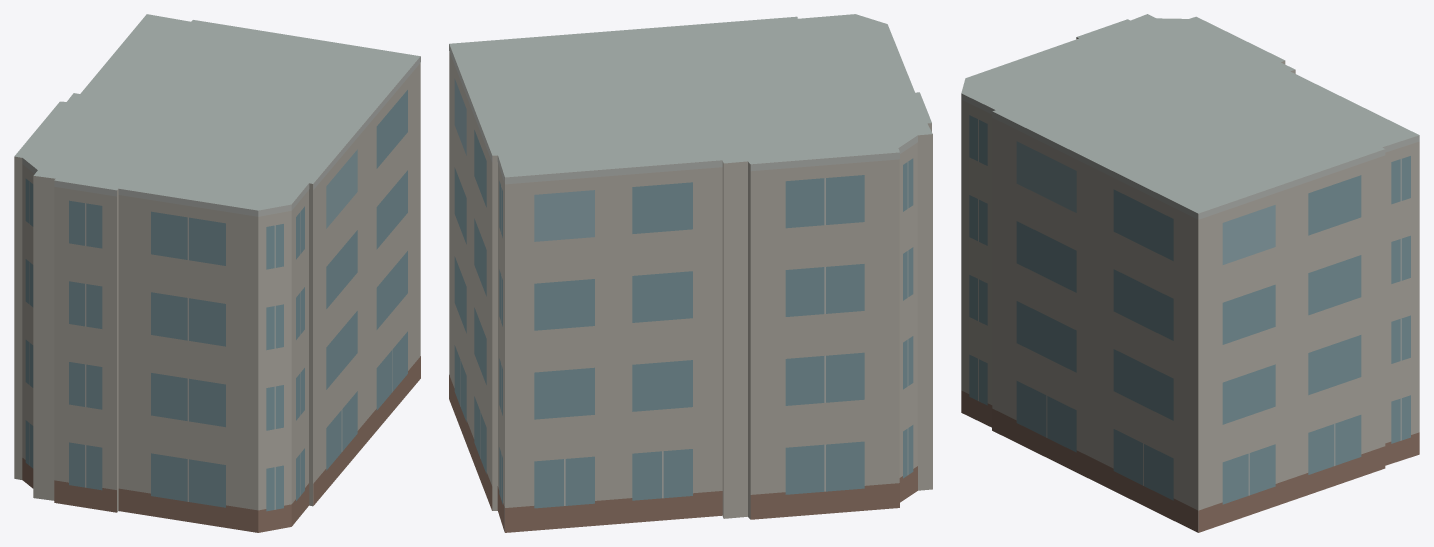
The model's file is survey-upis-33018150.glb.
The picture shows the model from 3 angles, left to right: view 1: azimuth 30°, elevation 25°; view 2: azimuth 150°, elevation 25°; view 3: azimuth 270°, elevation 25°; orthographic projection. The views are drawn at different scales.
Visible parts, largest first — view 1: survey-upis-33018150.tmp; view 2: survey-upis-33018150.tmp; view 3: survey-upis-33018150.tmp.
Part boxes in pixels (box(x1,y1,x2,y2)): survey-upis-33018150.tmp: box(14, 14, 420, 532); survey-upis-33018150.tmp: box(449, 14, 932, 532); survey-upis-33018150.tmp: box(961, 14, 1419, 532).
Size of the model in its own units: 16.77 by 12.5 by 16.28.
